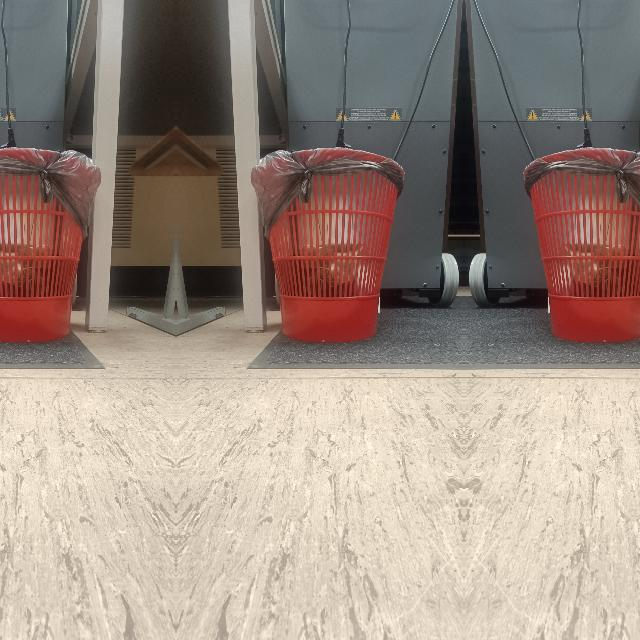obstacle: (249, 148, 406, 344), (520, 148, 640, 343), (0, 148, 100, 343)
